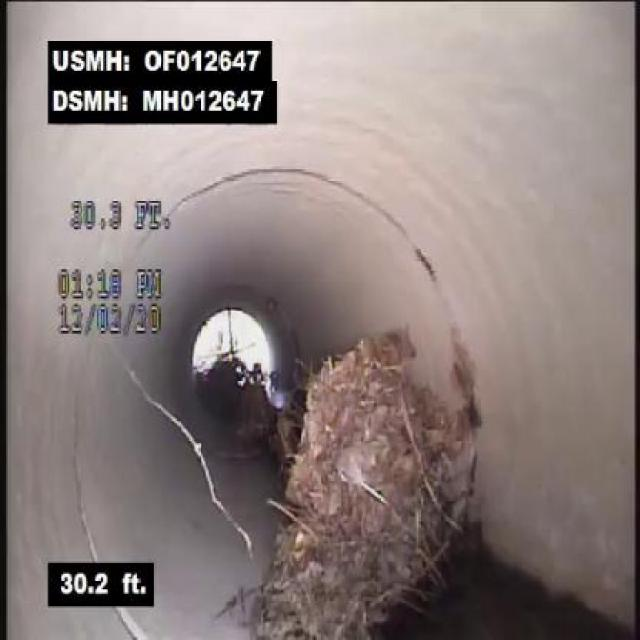Obstacle: (235, 286, 497, 639)
